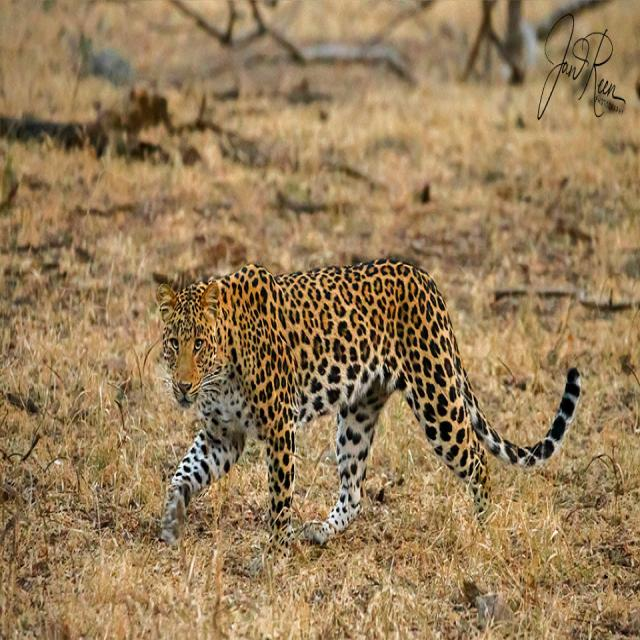Leopard: (151, 274, 582, 542)
